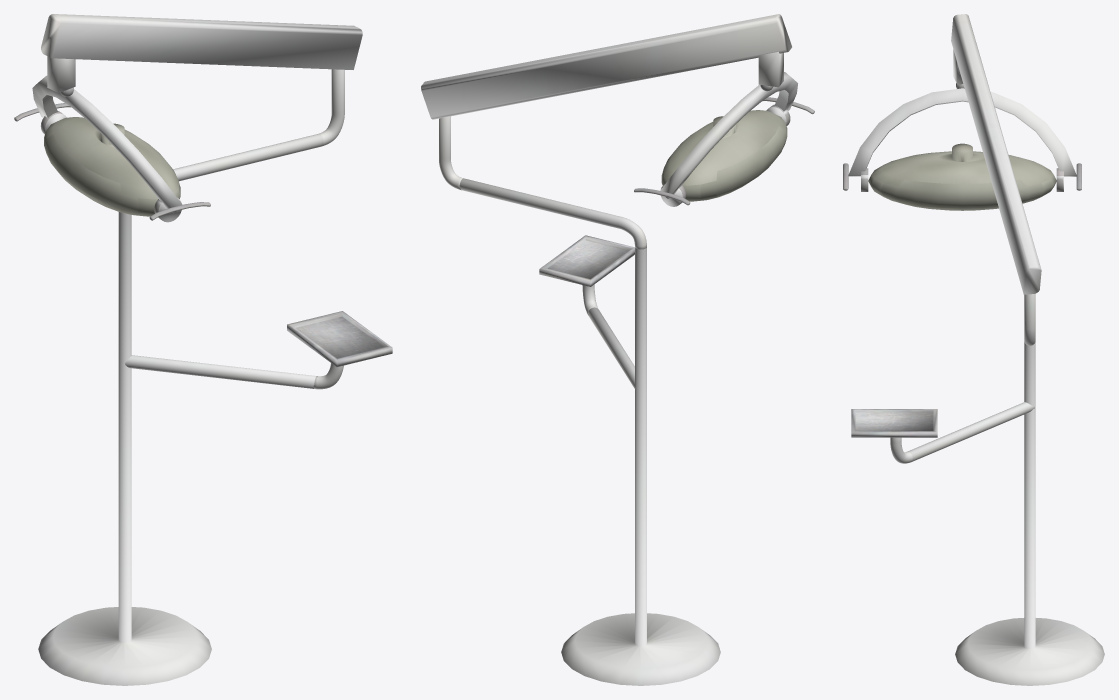
File: DentalStation.obj
3 views of the same model, side by side, from view 1: azimuth 30°, elevation 25°; view 2: azimuth 150°, elevation 25°; view 3: azimuth 270°, elevation 25° (orthographic). The views are drawn at different scales.
Visible parts, largest first — view 1: DentalStation.obj; view 2: DentalStation.obj; view 3: DentalStation.obj.
Boxes of the visible parts, box(x1,y1,x2,y2) form: DentalStation.obj: box(14, 14, 392, 685); DentalStation.obj: box(421, 14, 814, 685); DentalStation.obj: box(843, 14, 1104, 685).
Size of the model in its own units: 25.16 by 46.4 by 18.52.
